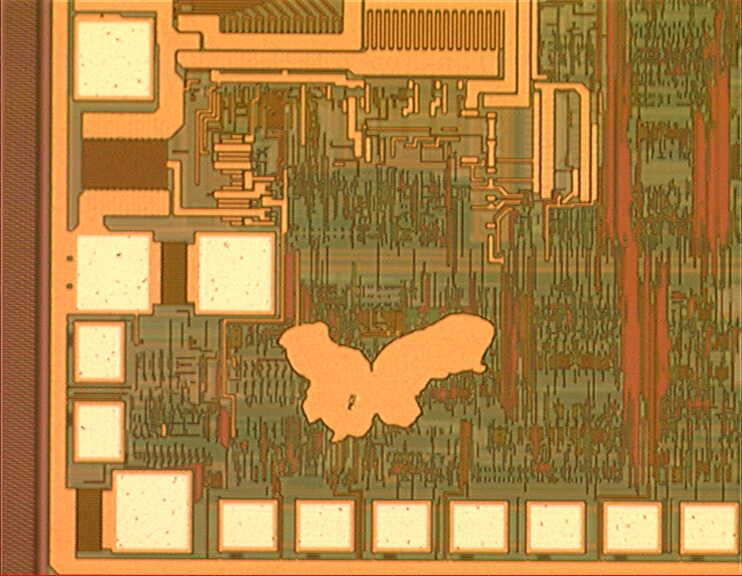BLOCK ETCH: (278, 310, 502, 444)
